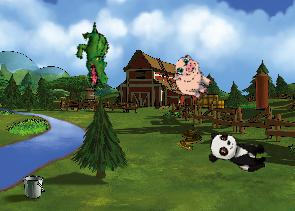crocodile: (65, 21, 124, 90)
panda: (205, 130, 270, 174)
pig: (164, 51, 219, 105)
